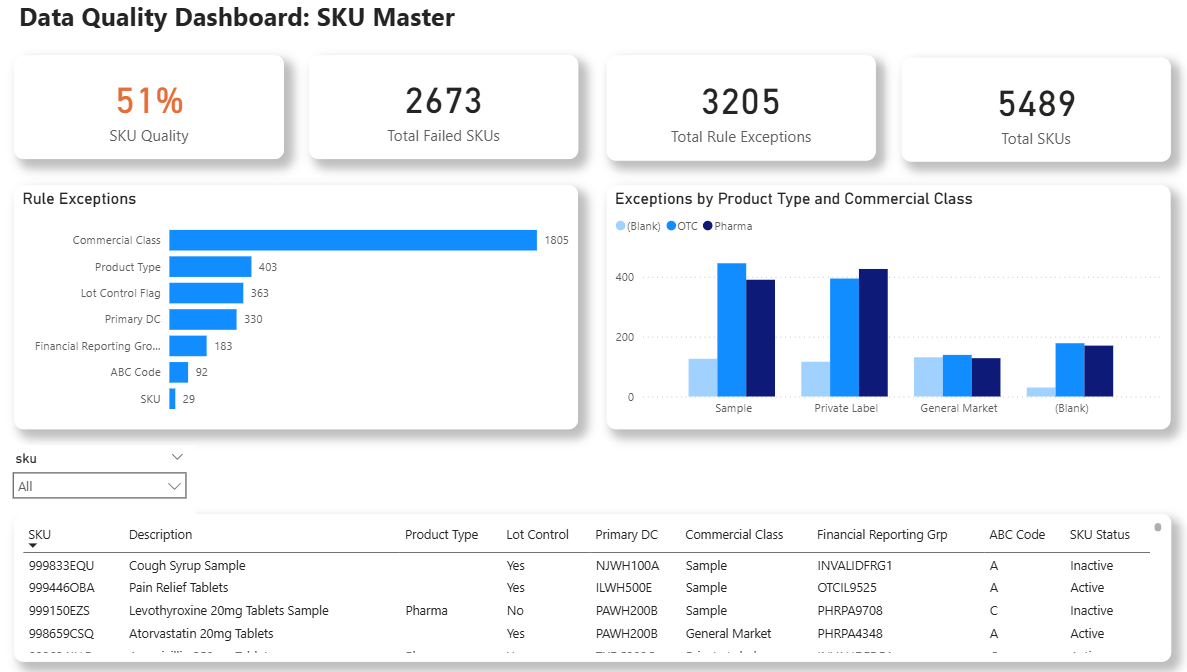

What the dashboard file says about the page in this screenshot:
{"tool":"powerbi","page":{"name":"Data Quality","canvas":[1280,720],"ordinal":0},"visuals":[{"type":"textbox","box":[38.1,0,471.7,52.4],"z":0},{"type":"card","fields":{"Values":["Count(sku_master.sku)"]},"box":[975.1,66.7,284.3,109.6],"z":1000},{"type":"card","fields":{"Values":["CountNonNull(sku_master.sku_quality_fail)"]},"box":[349.4,65.1,284.3,109.6],"z":2000},{"type":"card","fields":{"Values":["sku_master.SKU Quality"]},"box":[38.1,65.1,285,109.6],"z":3000},{"type":"barChart","title":"Rule Exceptions","fields":{"Y":["CountNonNull(Rule Failures.Value)"],"Category":["Rule Failures.Attribute"]},"box":[38.1,201.7,595.5,257.3],"z":4000},{"type":"tableEx","fields":{"Values":["sku_master.sku","sku_master.description","sku_master.prod_type","sku_master.lot_control_flag","sku_master.primary_dc","sku_master.comm_class","sku_master.fin_rprt_grp","sku_master.abc_code","sku_master.sku_status"]},"box":[38.1,549.5,1221.2,155.6],"z":5000},{"type":"card","fields":{"Values":["CountNonNull(Rule Failures.Value)"]},"box":[663.8,65.1,284.3,111.2],"z":6000},{"type":"clusteredColumnChart","title":"Exceptions by Product Type and Commercial Class","fields":{"Category":["sku_master.comm_class"],"Y":["CountNonNull(sku_master.sku)"],"Series":["sku_master.prod_type"]},"box":[663.8,201.7,595.5,257.3],"z":7000},{"type":"slicer","fields":{"Values":["sku_master.sku"]},"box":[27,476.4,203.3,73.1],"z":8000}]}

Visuals, with their boxes in screenshot pixels (x1, y1, x2, y2), scaled from the page's 1280x720 canvas onto the 1187x672 screenshot:
textbox: (x1=35, y1=0, x2=473, y2=49)
card - Count(sku_master.sku): (x1=904, y1=62, x2=1168, y2=165)
card - CountNonNull(sku_master.sku_quality_fail): (x1=324, y1=61, x2=588, y2=163)
card - sku_master.SKU Quality: (x1=35, y1=61, x2=300, y2=163)
"Rule Exceptions" barChart: (x1=35, y1=188, x2=588, y2=428)
tableEx - sku_master.sku x sku_master.description: (x1=35, y1=513, x2=1168, y2=658)
card - CountNonNull(Rule Failures.Value): (x1=616, y1=61, x2=879, y2=165)
"Exceptions by Product Type and Commercial Class" clusteredColumnChart: (x1=616, y1=188, x2=1168, y2=428)
slicer - sku_master.sku: (x1=25, y1=445, x2=214, y2=513)
